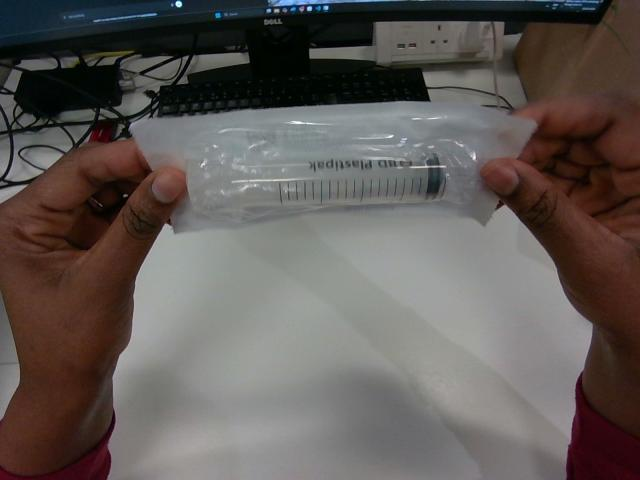syringe: (133, 102, 535, 221)
